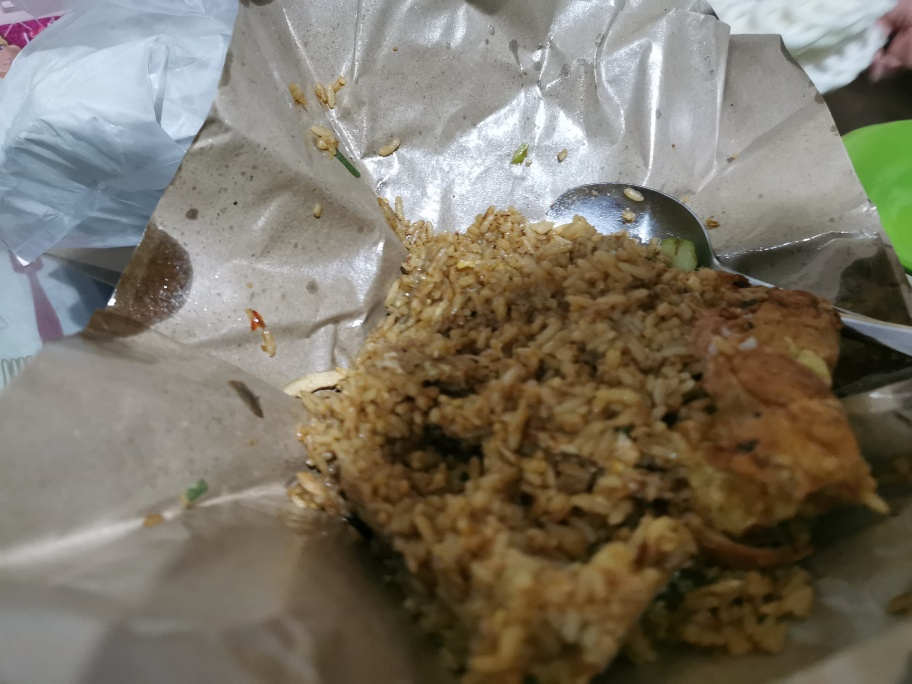nasi goreng: (312, 214, 866, 684)
